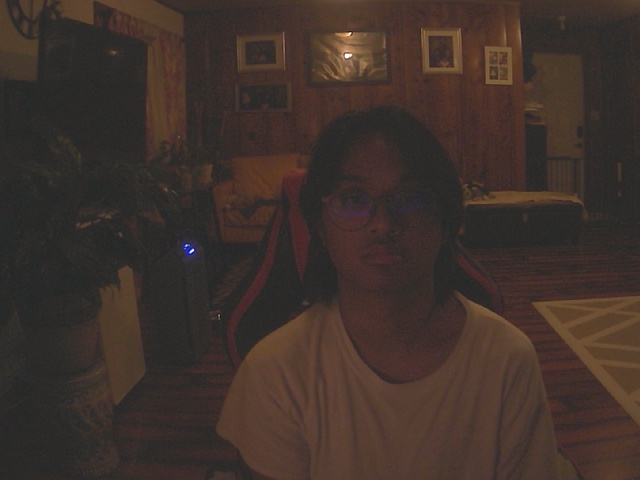neutral: (301, 101, 464, 309)
